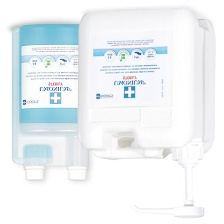cleaning_solution: (74, 2, 211, 163), (125, 18, 217, 220), (7, 19, 96, 181)
